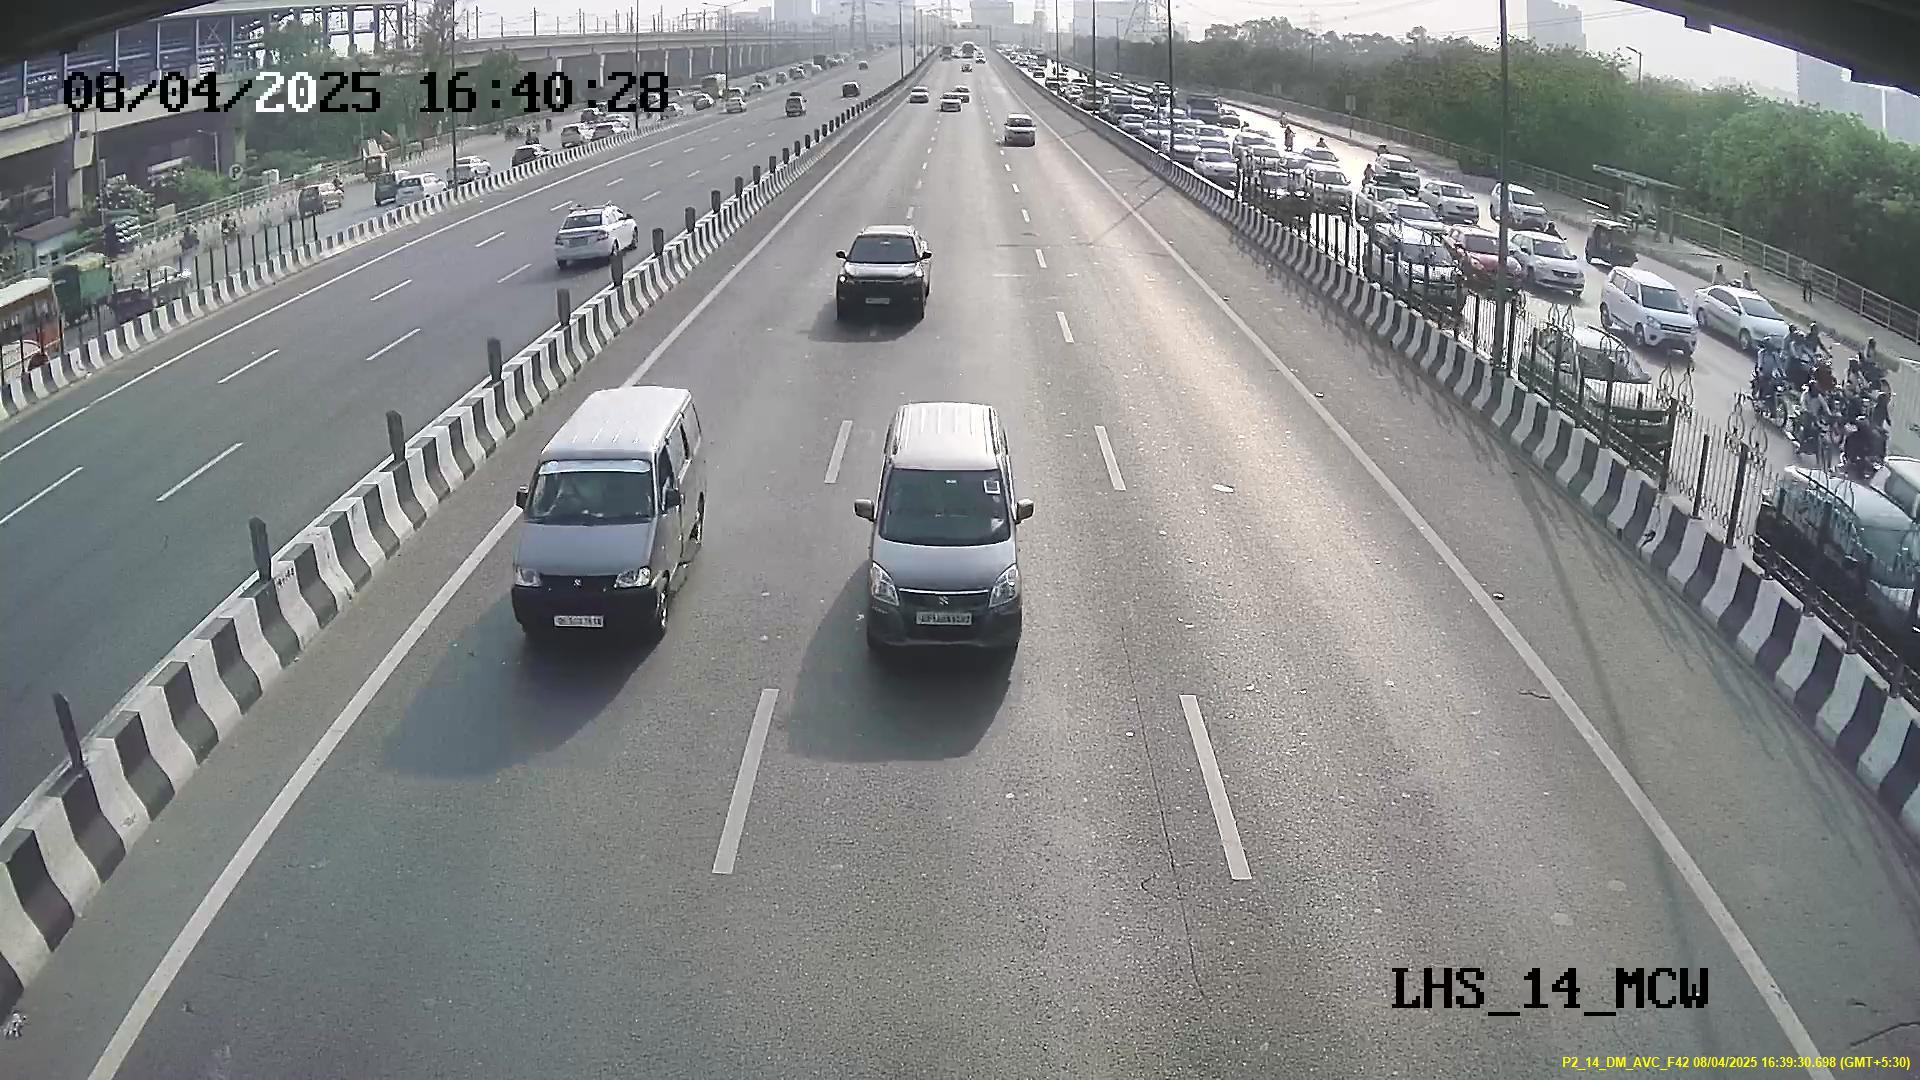car: (510, 419, 687, 653), (862, 446, 1026, 662), (824, 232, 938, 322)
